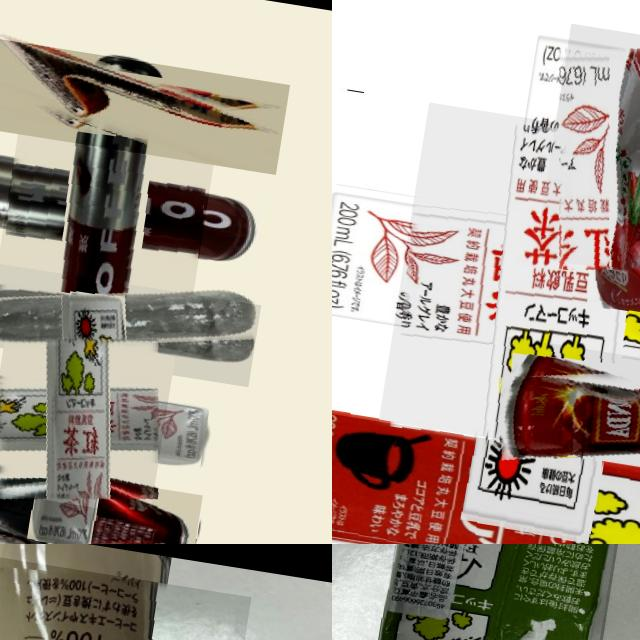Aluminium Foil: (379, 101, 640, 470), (332, 410, 640, 544), (0, 35, 290, 174), (0, 320, 176, 515), (373, 544, 640, 640)
Can: (0, 94, 219, 319), (534, 23, 640, 294), (0, 544, 251, 640), (492, 335, 640, 489), (0, 449, 203, 544)
Transparent Plastic Bottle: (0, 251, 261, 386)
